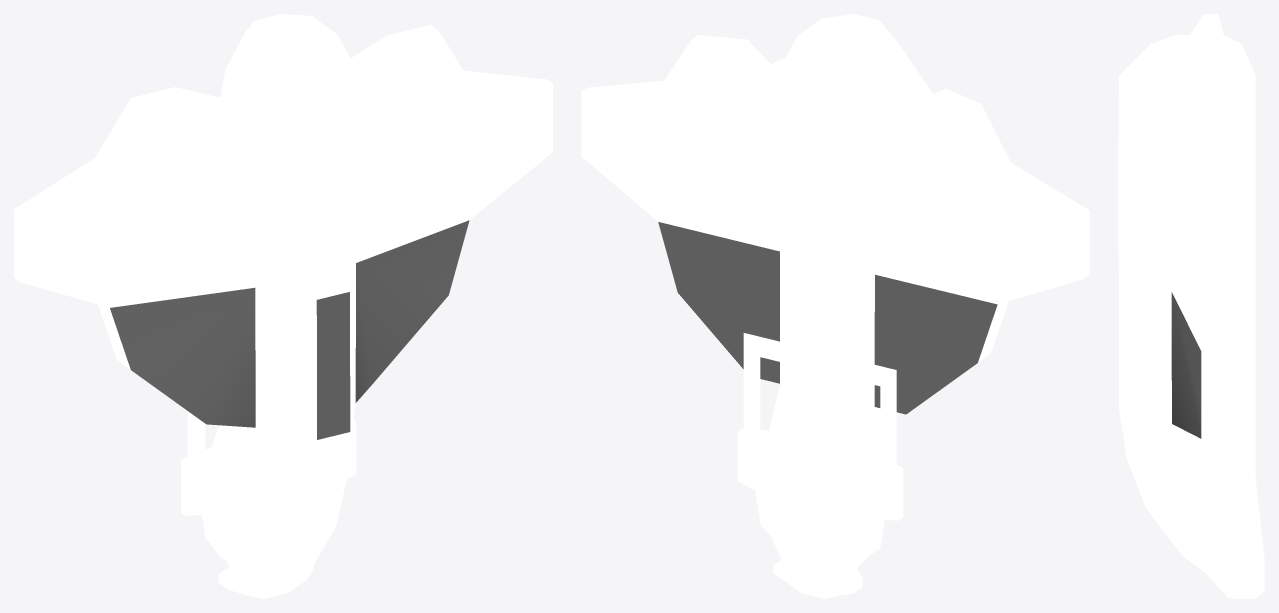
File: ship_01_13002.glb
3 views of the same model, side by side, from view 1: azimuth 30°, elevation 25°; view 2: azimuth 150°, elevation 25°; view 3: azimuth 270°, elevation 25° (orthographic). The views are drawn at different scales.
Parts seen in each view (by area): view 1: group_19; view 2: group_19; view 3: group_19.
Part boxes in pixels (x1,y1,x2,y2): group_19: (14,14,552,598); group_19: (581,14,1089,598); group_19: (1118,14,1264,598).
Bounding box in the file's own units: 1590 × 1636 × 401.
2 materials, 2 textured.
